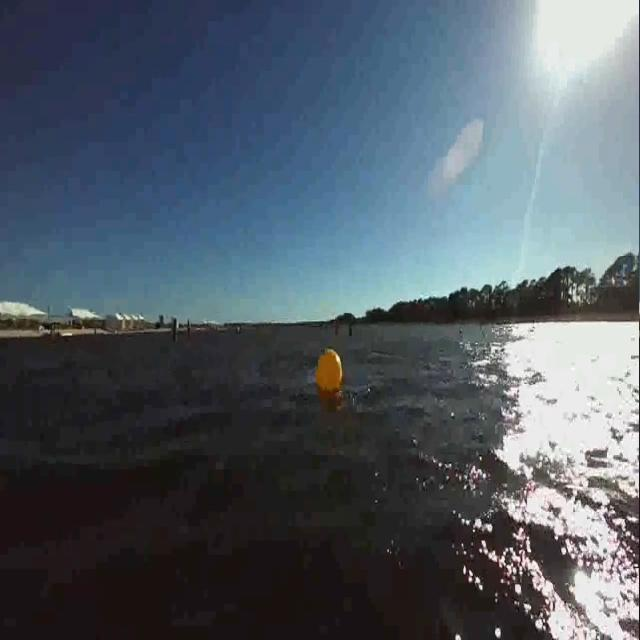yellow-buoy: (316, 348, 343, 393)
